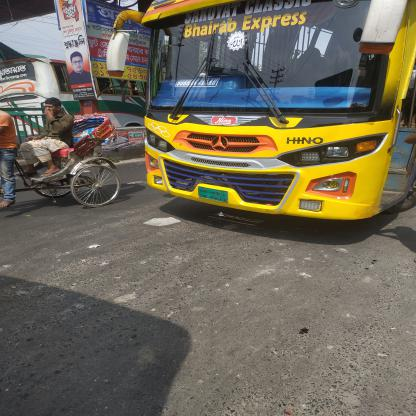license_plate: (198, 188, 229, 206)
